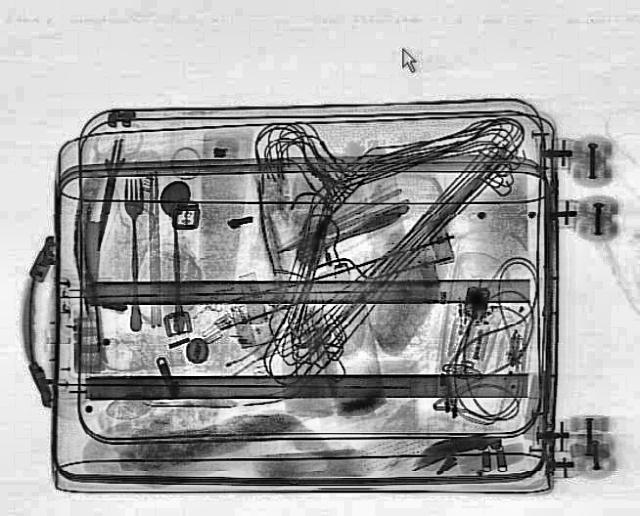Knife: (84, 136, 128, 252)
